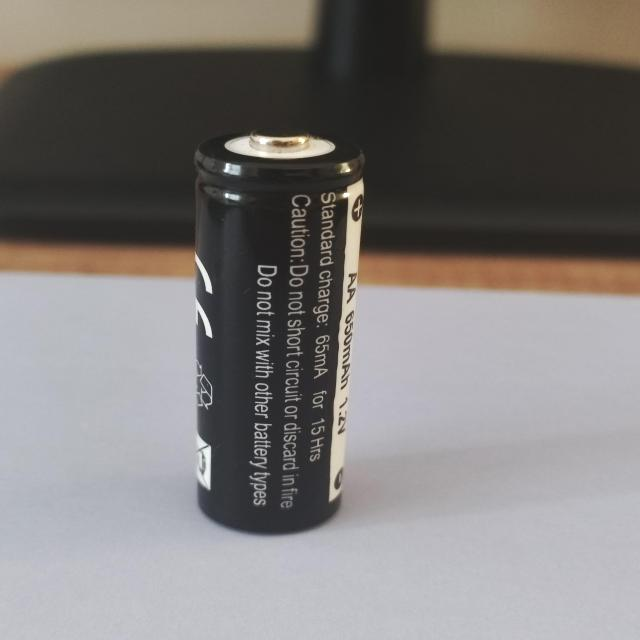AA: (186, 121, 370, 541)
